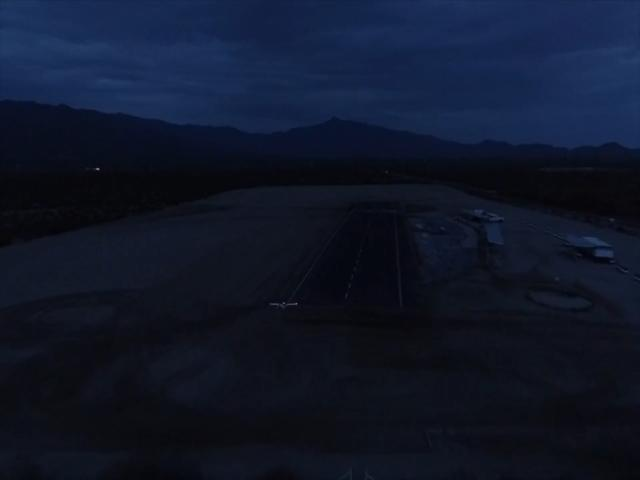plane: (269, 298, 297, 313)
